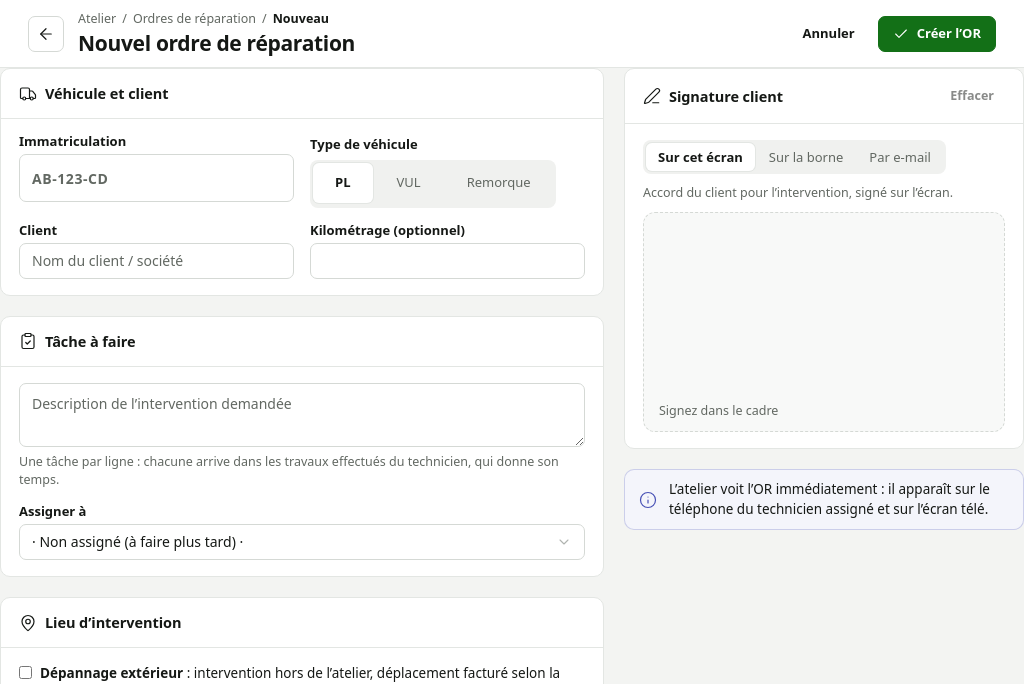
Test: nouvel OR › client inconnu, OR créé aussitôt : la fiche du client est d’abord demandée
Type "Freins" into the text box named "Tâche à faire".
click(302, 415); type("Freins")  # box [19,383,585,447]
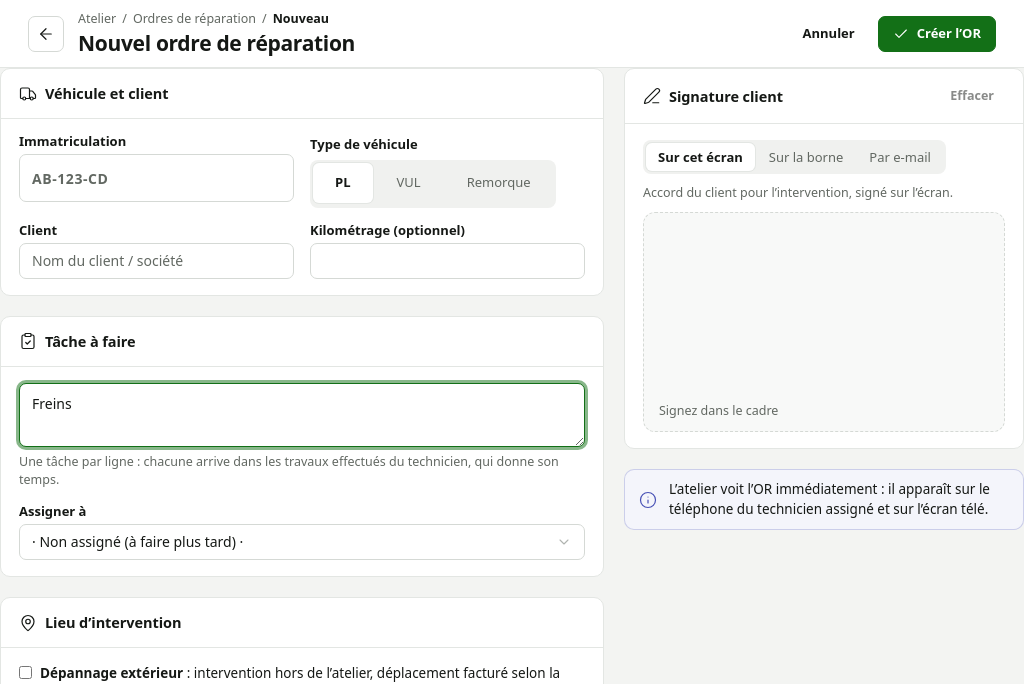
Type "GH512RT" into the dropdown labelled "Immatriculation".
click(156, 178); type("GH512RT")  # box [19,154,294,202]
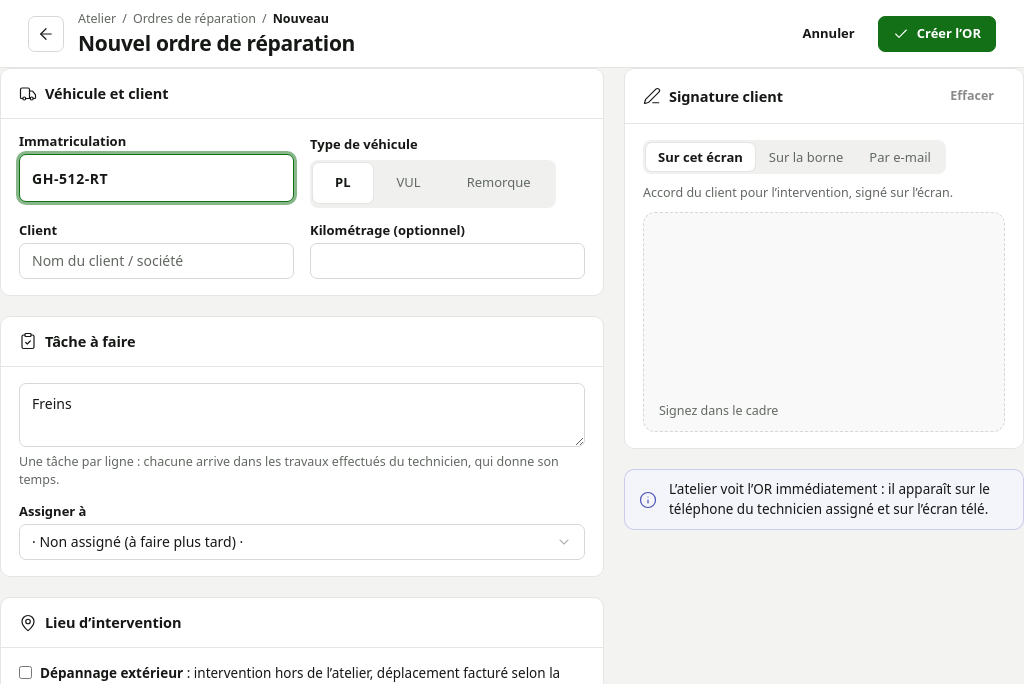
Type "Garage Inconnu" into the dropdown labelled "Client".
click(156, 261); type("Garage Inconnu")  # box [19,243,294,279]
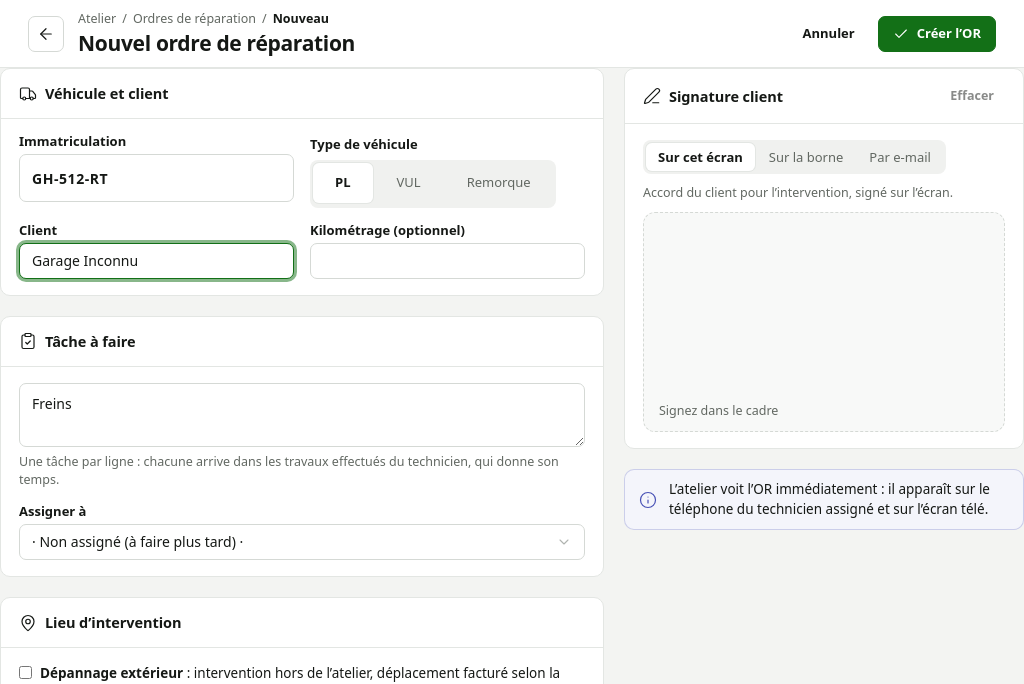
Click the button "Créer l’OR".
click(937, 34)  # box [878,16,996,52]
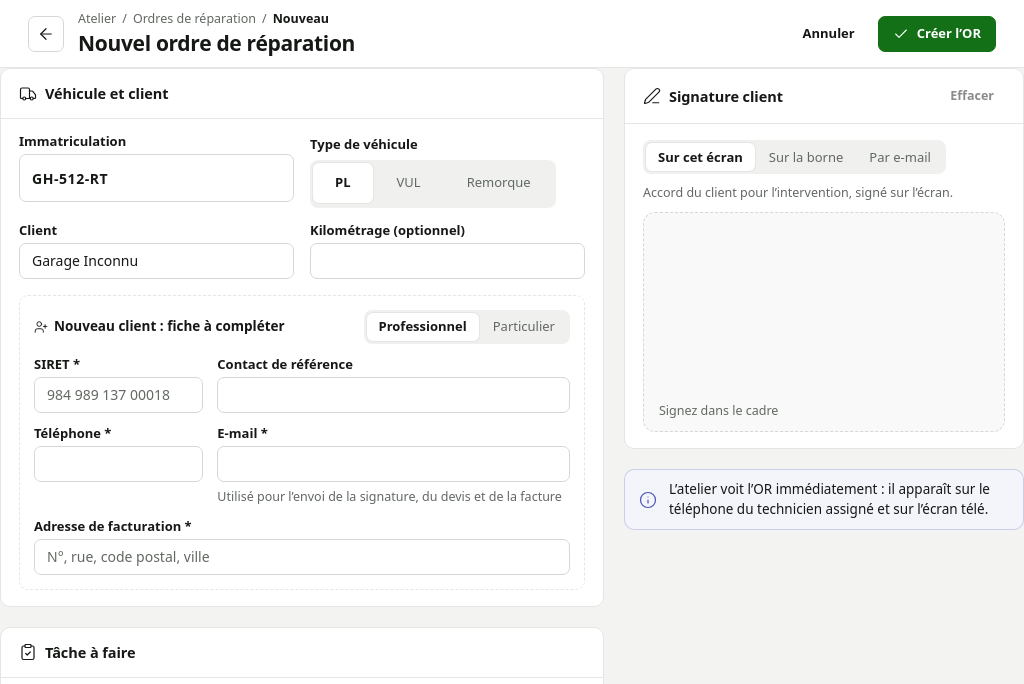
Check: the text "Nouveau client : fiche à compléter" is shown, box [34,317,285,337]
